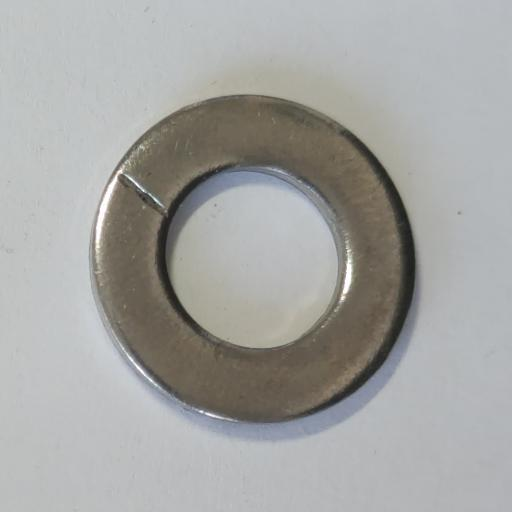scratch: (118, 173, 168, 218)
